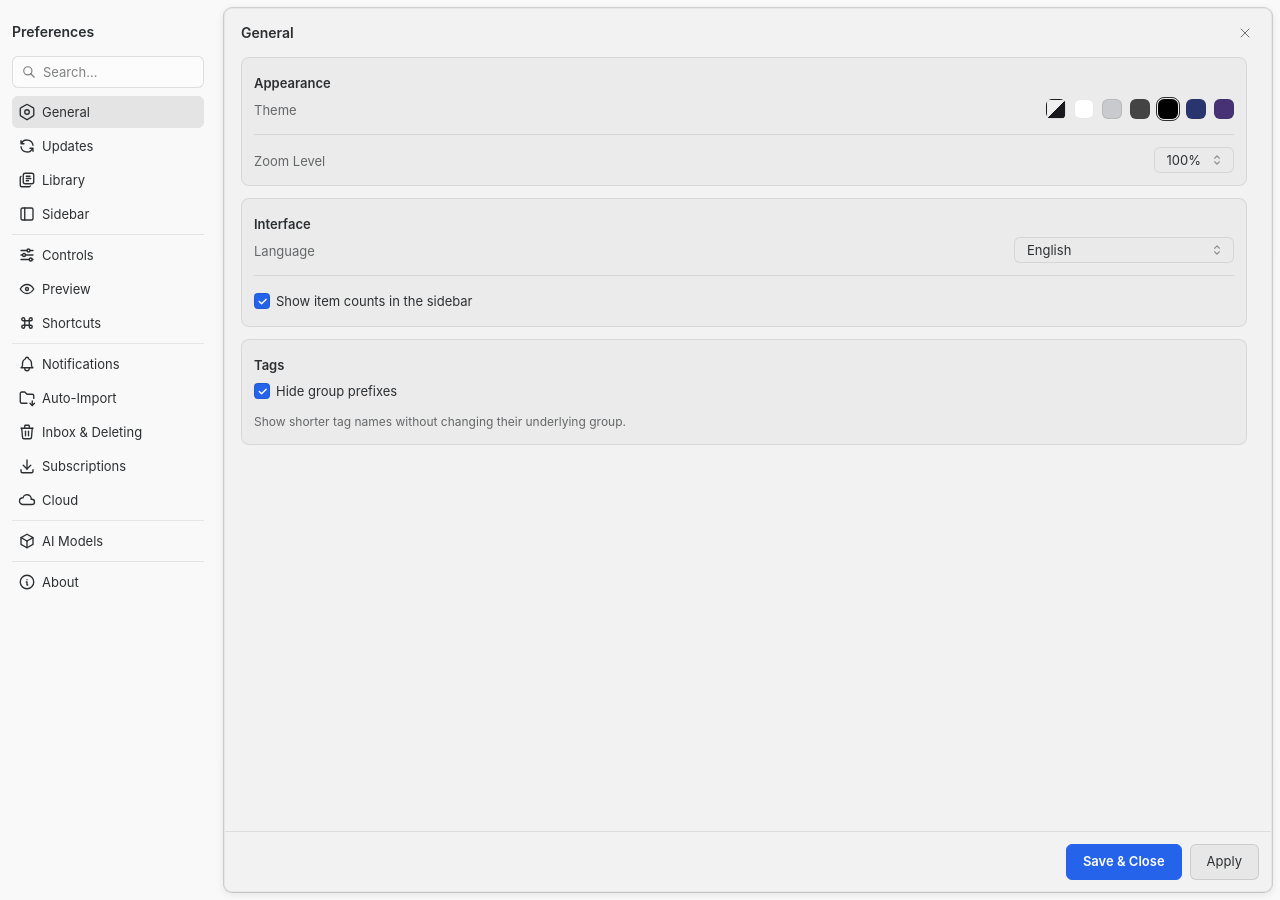
Test: Settings › explains the media-based delete undo limit and its disabled state
The width and height of the screenshot is (1280, 900).
Step 1. Click the button "Inbox & Deleting" → (108, 432), box [12, 416, 204, 448]
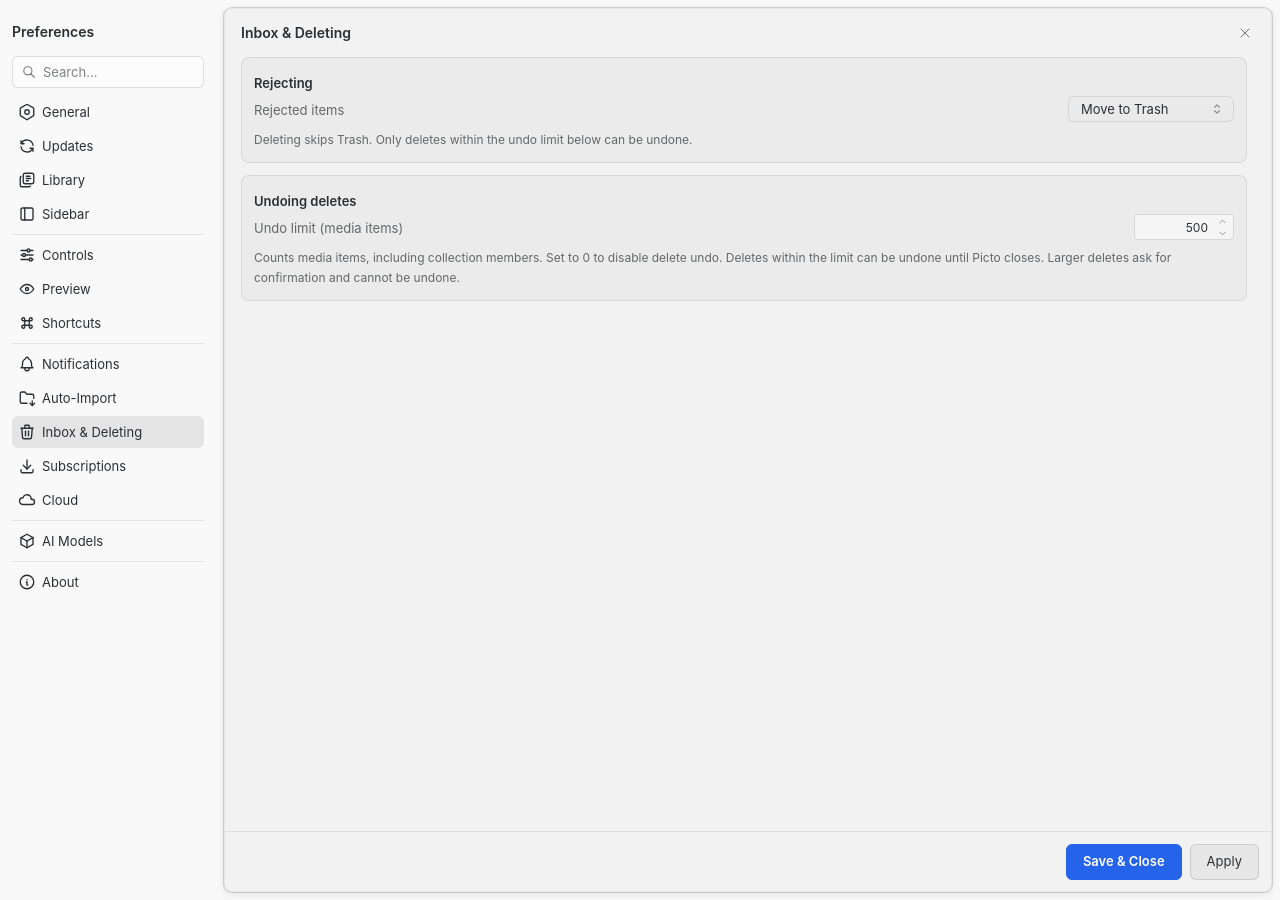
Now the text "Deleting skips Trash. Only deletes within the undo limit below can be undone." is shown, box [254, 132, 692, 147]
Now the number field named "Undo limit (media items)" is shown, box [1134, 214, 1234, 240]
Now the text "Counts media items, including collection members. Set to 0 to disable delete undo." is shown, box [254, 250, 1171, 285]
